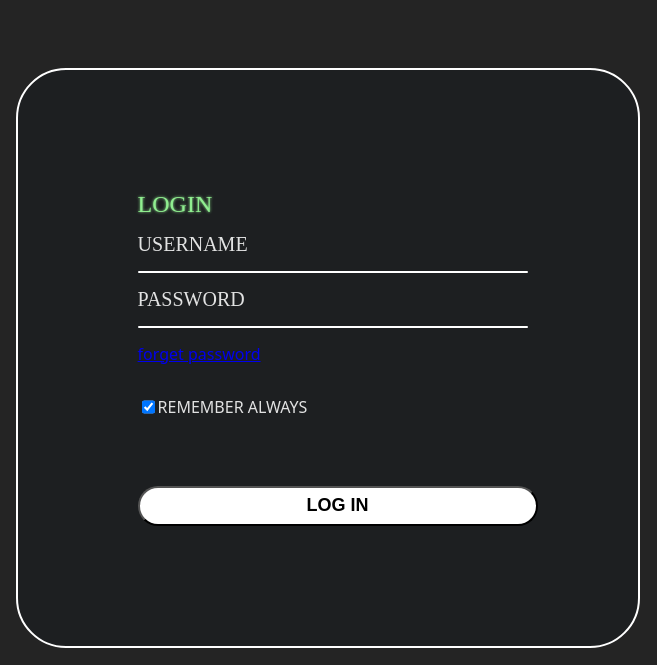
Login Component › shows error if fields are empty
The image size is (657, 665).
Click the button showing "LOG IN": x=338, y=506 [138,486,538,526]
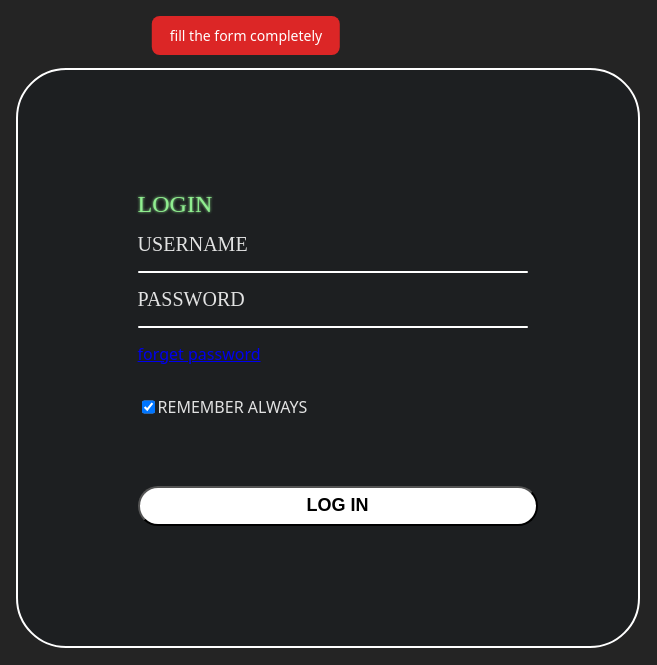
expect the text "fill the form completely" is shown: met, box [152,16,340,55]
